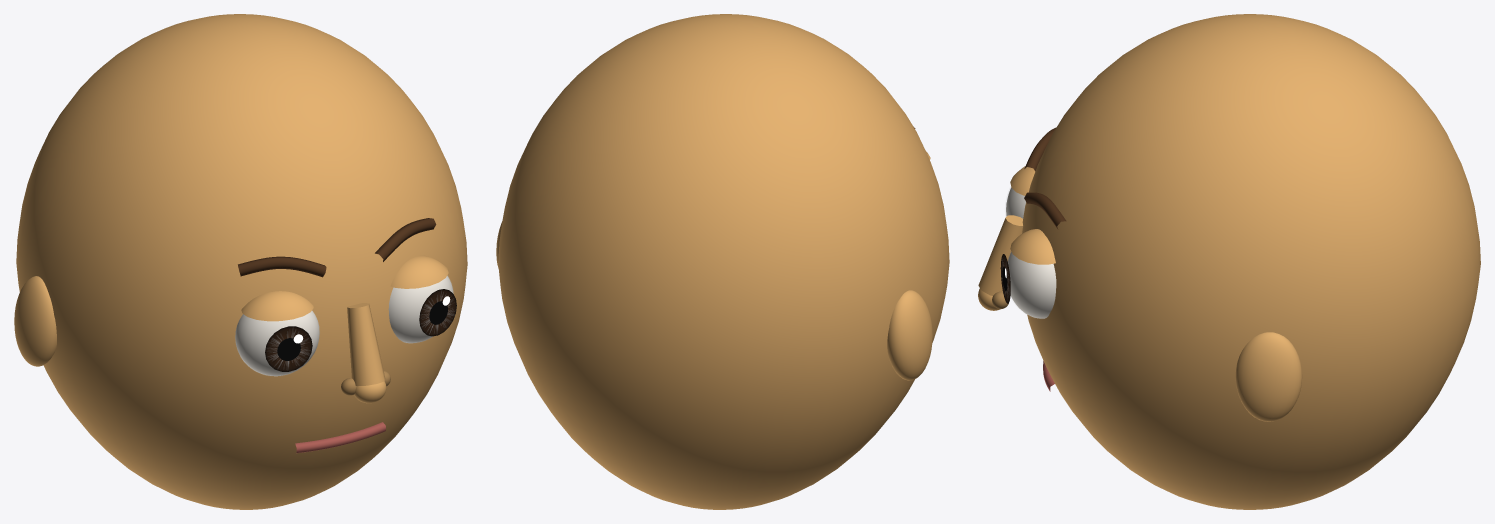
Rendered from 04-mi-clos.glb.
3 renders of one model, left to right at view 1: azimuth 30°, elevation 25°; view 2: azimuth 150°, elevation 25°; view 3: azimuth 270°, elevation 25°, orthographic.
Bounding box in the file's own units: 0.3087 × 0.321 × 0.3166.
9 materials, 1 textured.
